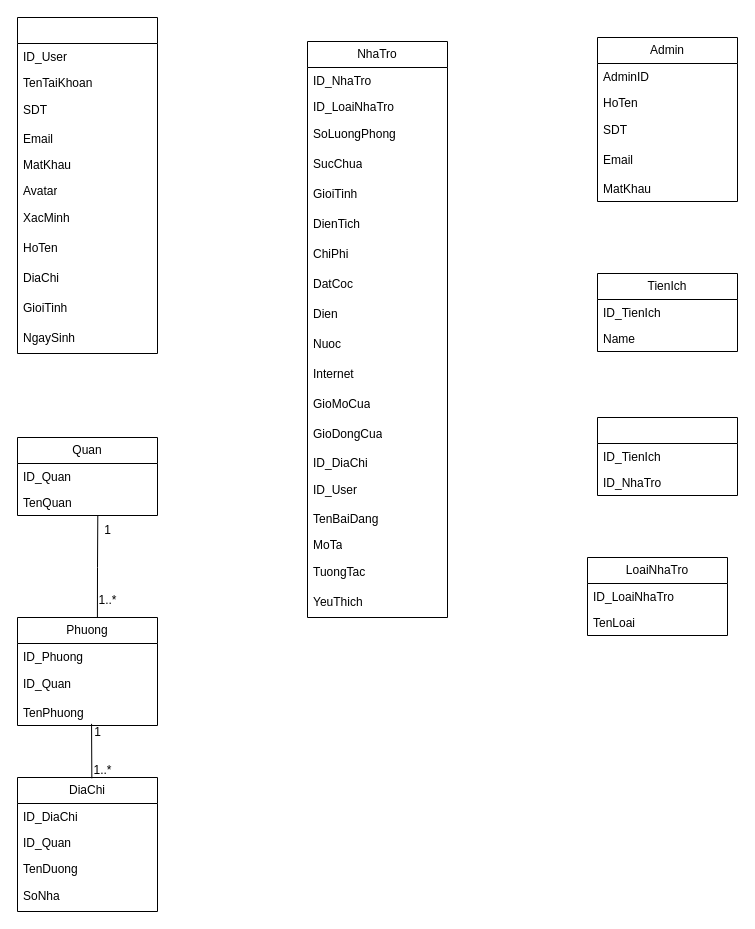
This 755x929 diagram has some shape labels left out. The shapes that lost their labels are listed below. From the top down, each one's box as (x1, y1, x2, y2) in pixels, then its label:
(16, 16, 158, 354): TaiKhoanNguoiDung
(596, 416, 738, 496): TienIch_NhaTro
